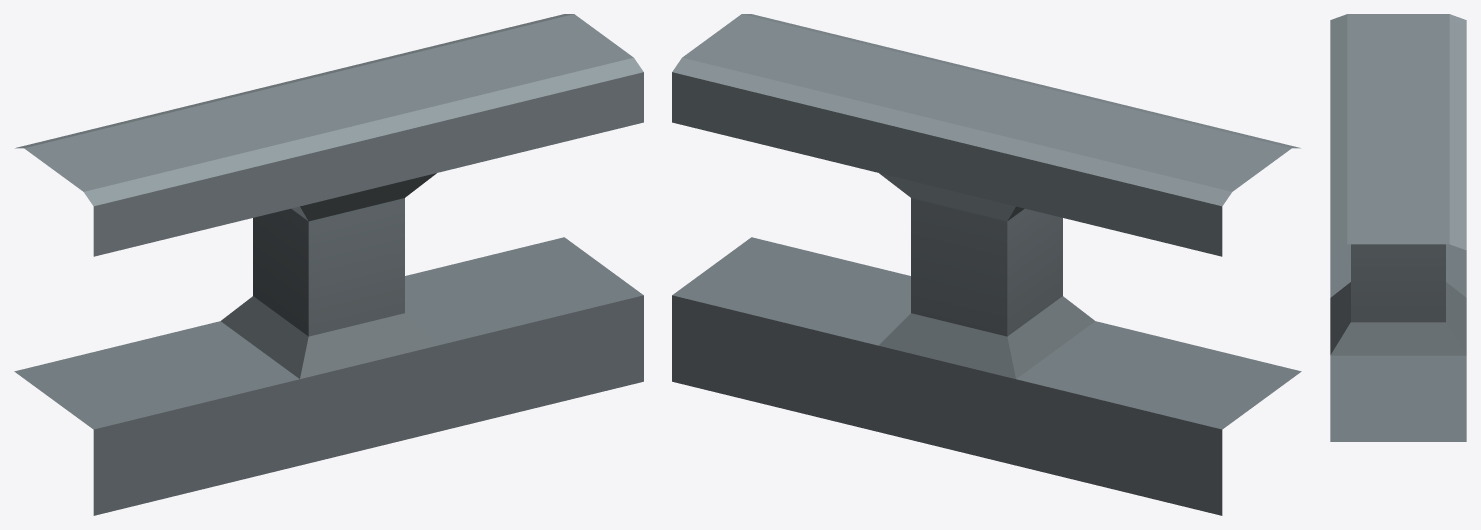
The model's file is barrier_half.gltf.
The picture shows the model from 3 angles, left to right: view 1: azimuth 30°, elevation 25°; view 2: azimuth 150°, elevation 25°; view 3: azimuth 270°, elevation 25°; orthographic projection. The views are drawn at different scales.
Parts seen in each view (by area): view 1: barrier_half; view 2: barrier_half; view 3: barrier_half.
Part boxes in pixels (x1,y1,x2,y2): barrier_half: (14,14,643,515); barrier_half: (672,14,1301,515); barrier_half: (1330,14,1466,441).
Bounding box in the file's own units: 2 × 1.1 × 0.5.
Materials: 1 (1 with a texture image).
